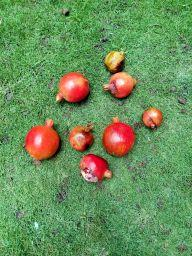pomegranate: (24, 117, 59, 161), (102, 117, 135, 157), (54, 71, 91, 104), (78, 154, 114, 184), (103, 72, 137, 99), (69, 121, 94, 152), (104, 51, 126, 73), (143, 107, 163, 130)
